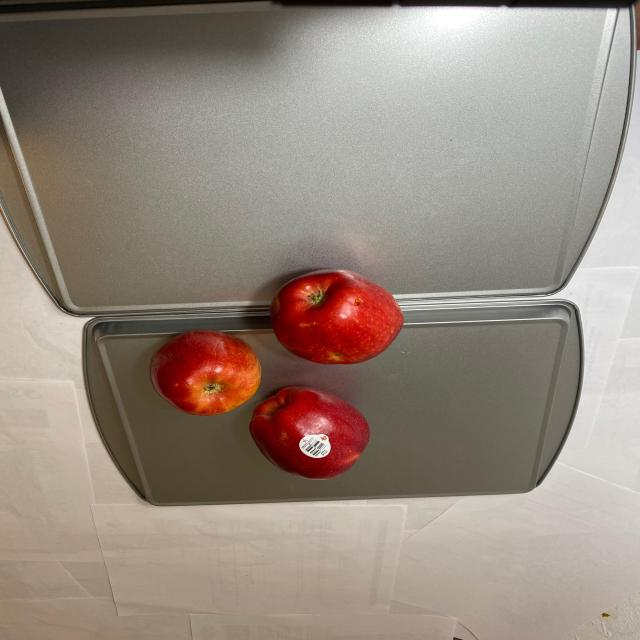apple: (148, 269, 403, 480)
